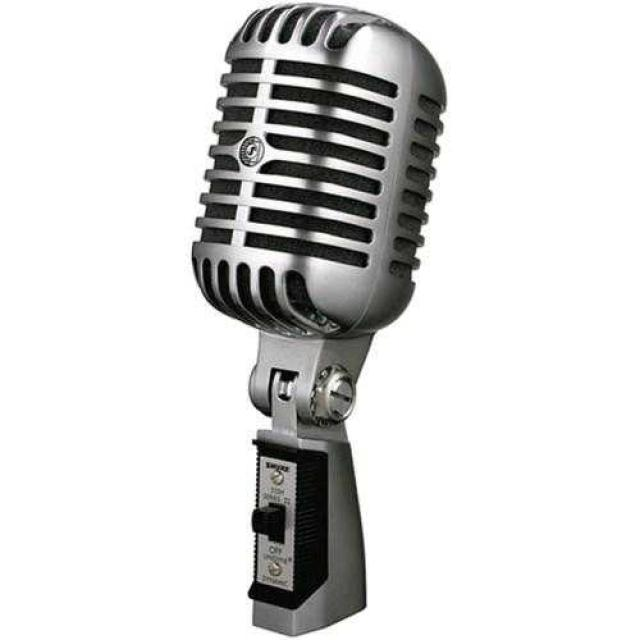microphone: (197, 9, 442, 634)
